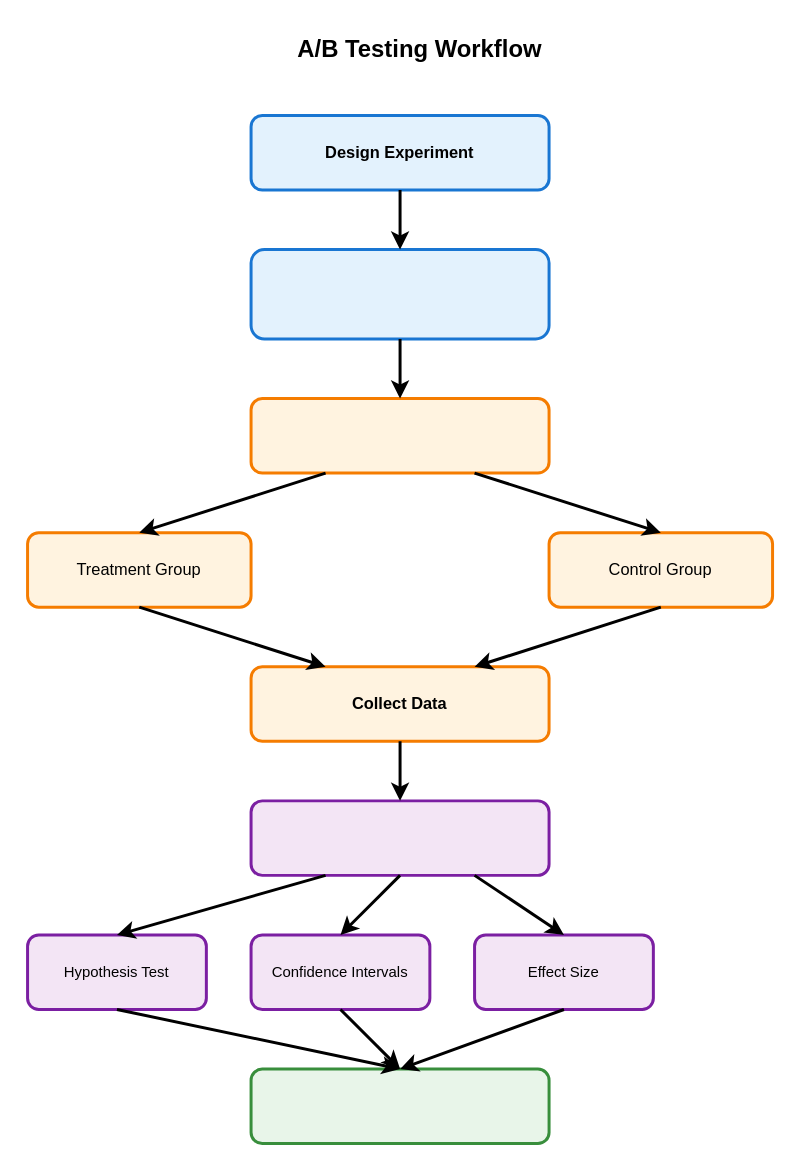
The diagram is 799 pixels wide and 1170 high, and some of its shapes have lost their labels. The shapes that lost their labels are listed below. From the top down, each one's centre as x and y in pixels, then its label:
At (399,293): "Power Analysis (Sample Size)".
At (399,435): "Randomize Users".
At (399,837): "Statistical Analysis".
At (399,1105): "Interpret Results".
